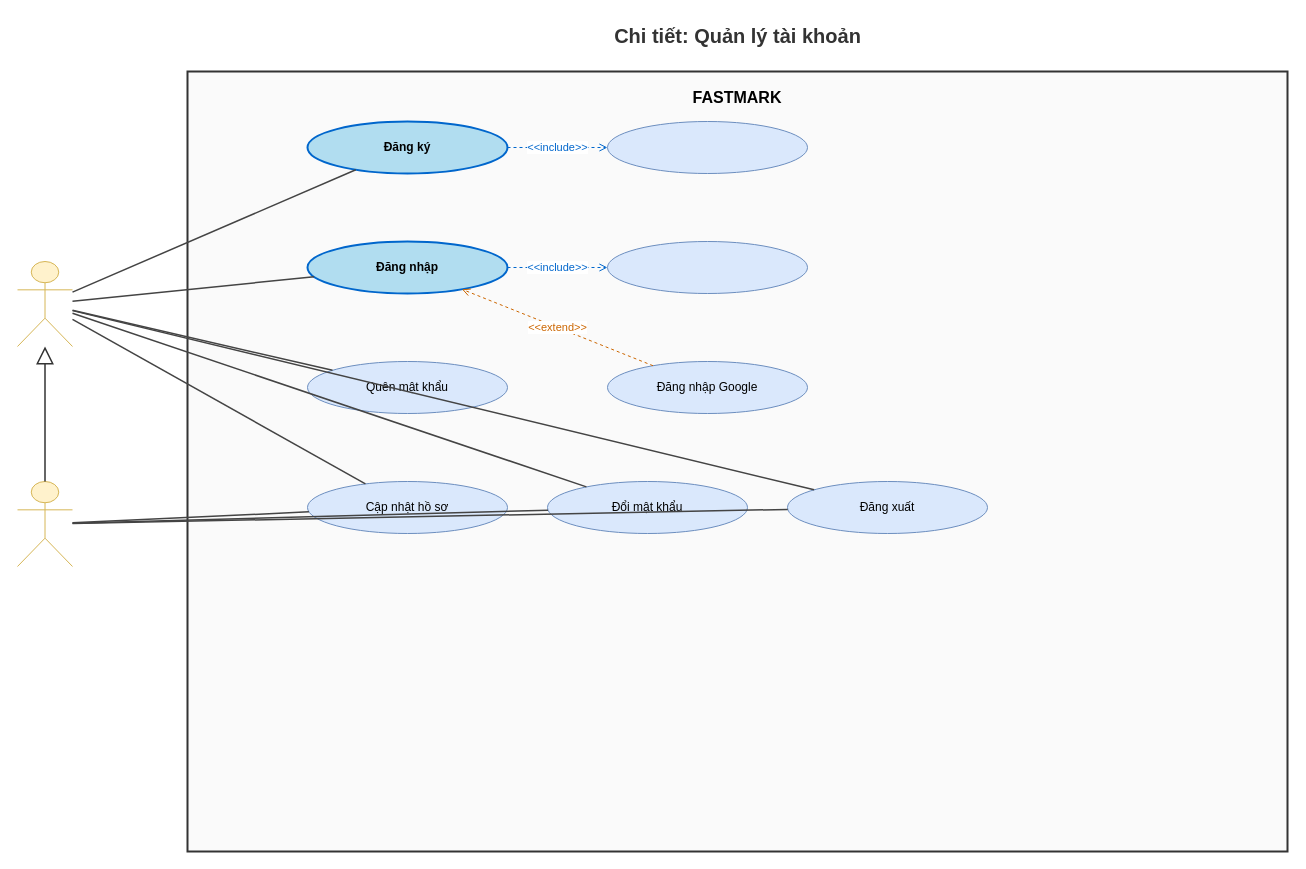
This 1306x869 diagram has some shape labels left out. The shapes that lost their labels are listed below. From the top down, each one's centre as x and y in pixels, then its label:
At point (707, 147): "Xác thực Email".
At point (707, 267): "Kiểm tra thông tin đăng nhập".
At point (44, 303): "User".
At point (44, 523): "Seller".
